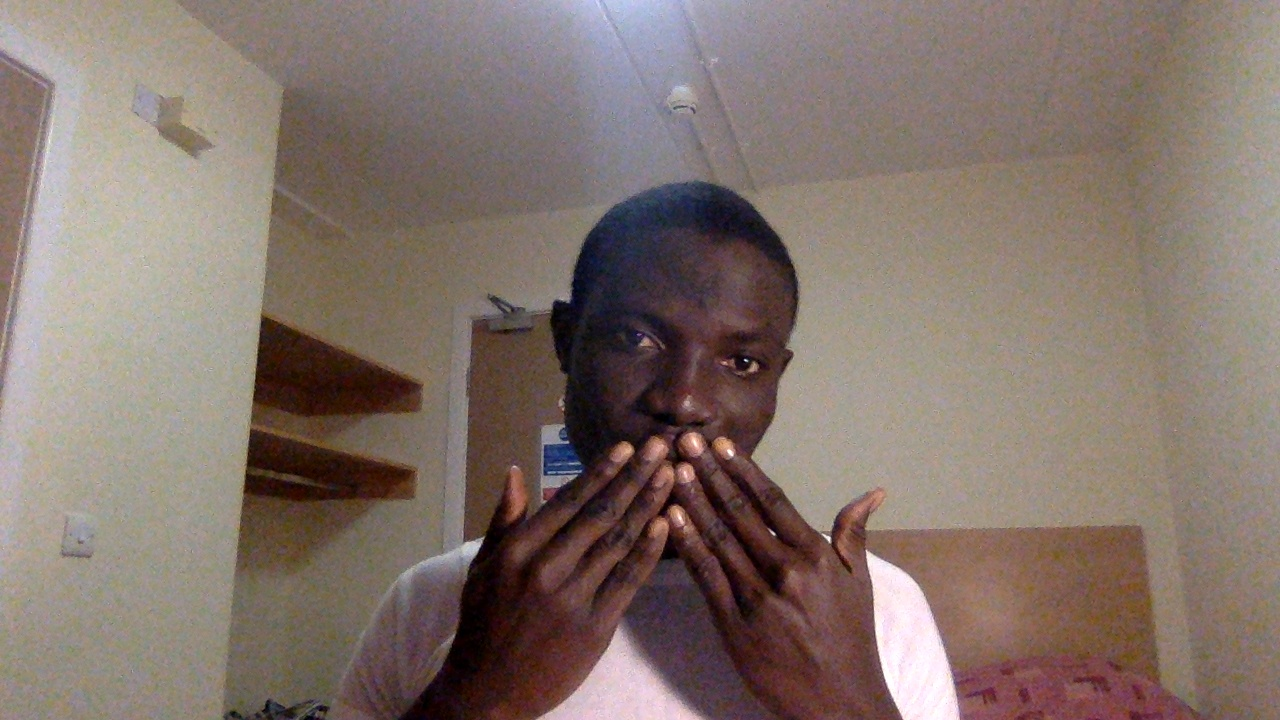Thank You: (454, 418, 908, 720)
